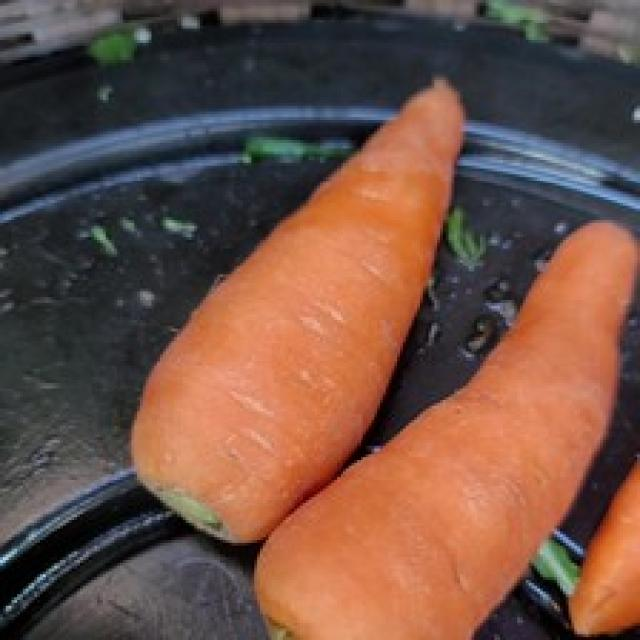Fresh_Carrot: (131, 80, 474, 542)
